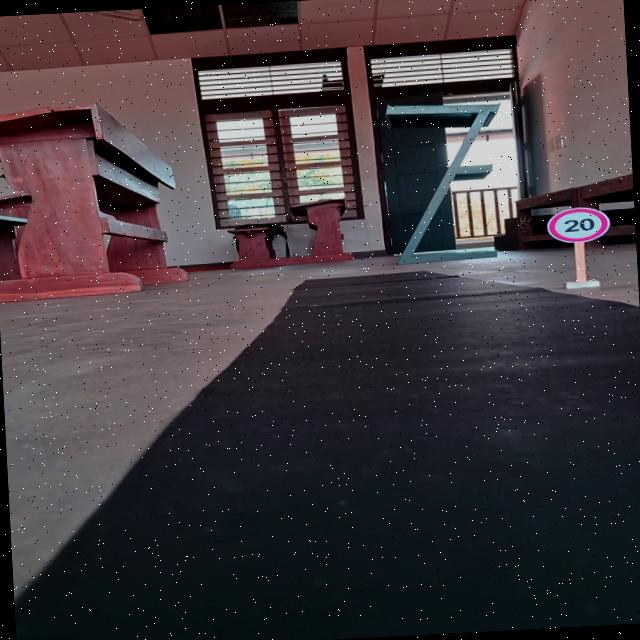Speed20: (544, 204, 616, 246)
